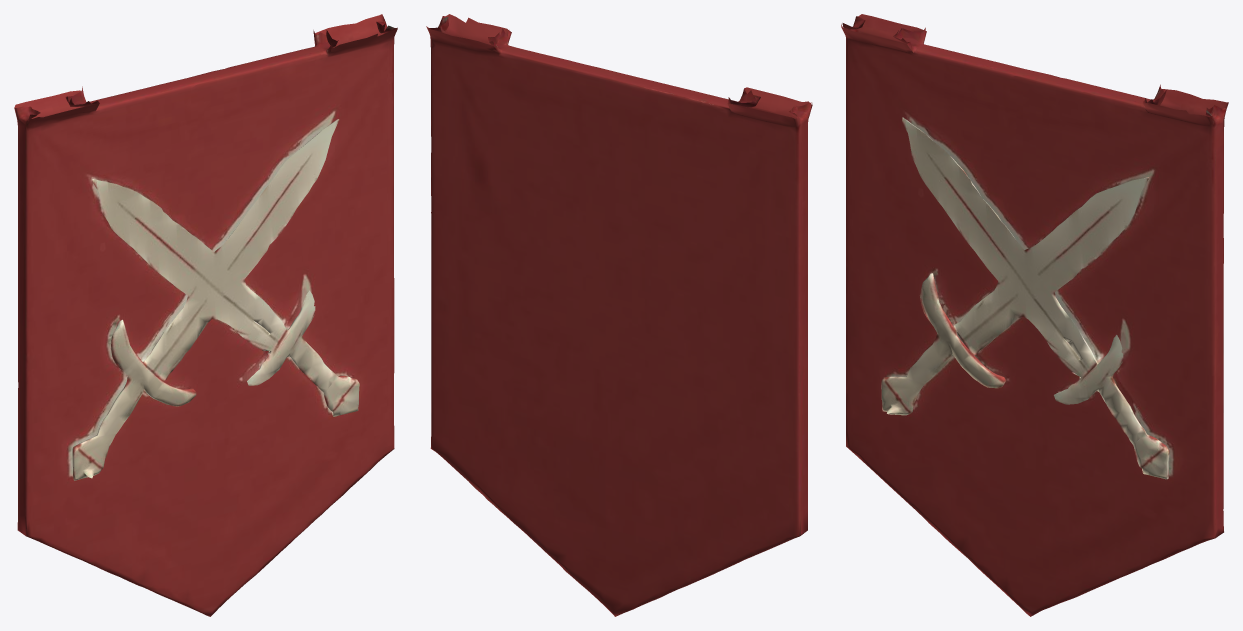
Rendered from BannerSwords.glb.
3 views of the same model, side by side, from view 1: azimuth 30°, elevation 25°; view 2: azimuth 150°, elevation 25°; view 3: azimuth 330°, elevation 25° (orthographic).
Parts seen in each view (by area): view 1: BannerSwords; view 2: BannerSwords; view 3: BannerSwords.
Boxes of the visible parts, x1,y1,x2,y2 form: BannerSwords: (14,14,397,616); BannerSwords: (426,14,812,616); BannerSwords: (841,14,1228,616).
Size of the model in its own units: 1.26 by 1.8 by 0.1561.
1 material, 1 textured.
